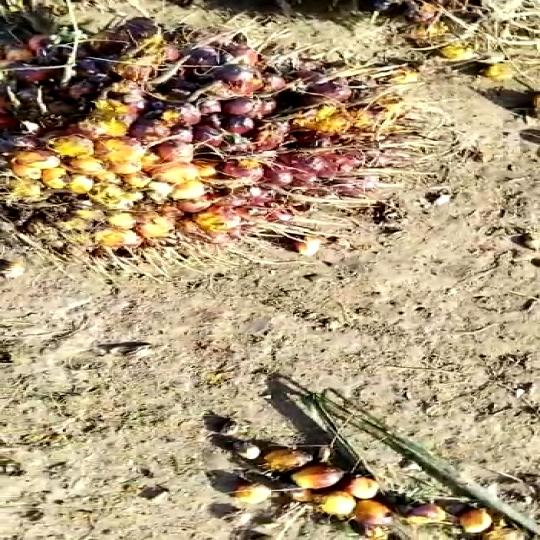masak: (0, 17, 431, 273)
